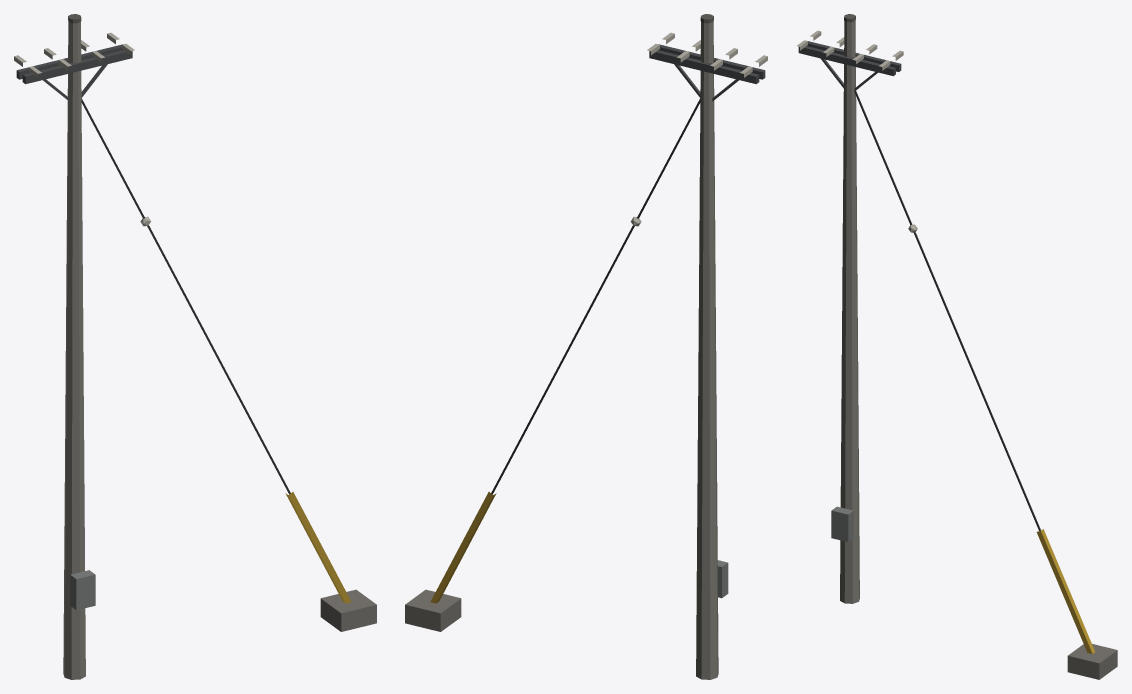
Rendered from lv-zerdz-narozny.glb.
3 views of the same model, side by side, from view 1: azimuth 30°, elevation 25°; view 2: azimuth 150°, elevation 25°; view 3: azimuth 330°, elevation 25° (orthographic). The views are drawn at different scales.
Visible parts, largest first — view 1: lv-zerdz-narozny; view 2: lv-zerdz-narozny; view 3: lv-zerdz-narozny.
Part boxes in pixels (left/top/right/bottom): lv-zerdz-narozny: left=14, top=14, right=376, bottom=679; lv-zerdz-narozny: left=405, top=14, right=767, bottom=679; lv-zerdz-narozny: left=797, top=14, right=1117, bottom=679.
Bounding box in the file's own units: 5.8 × 10.75 × 0.7.
